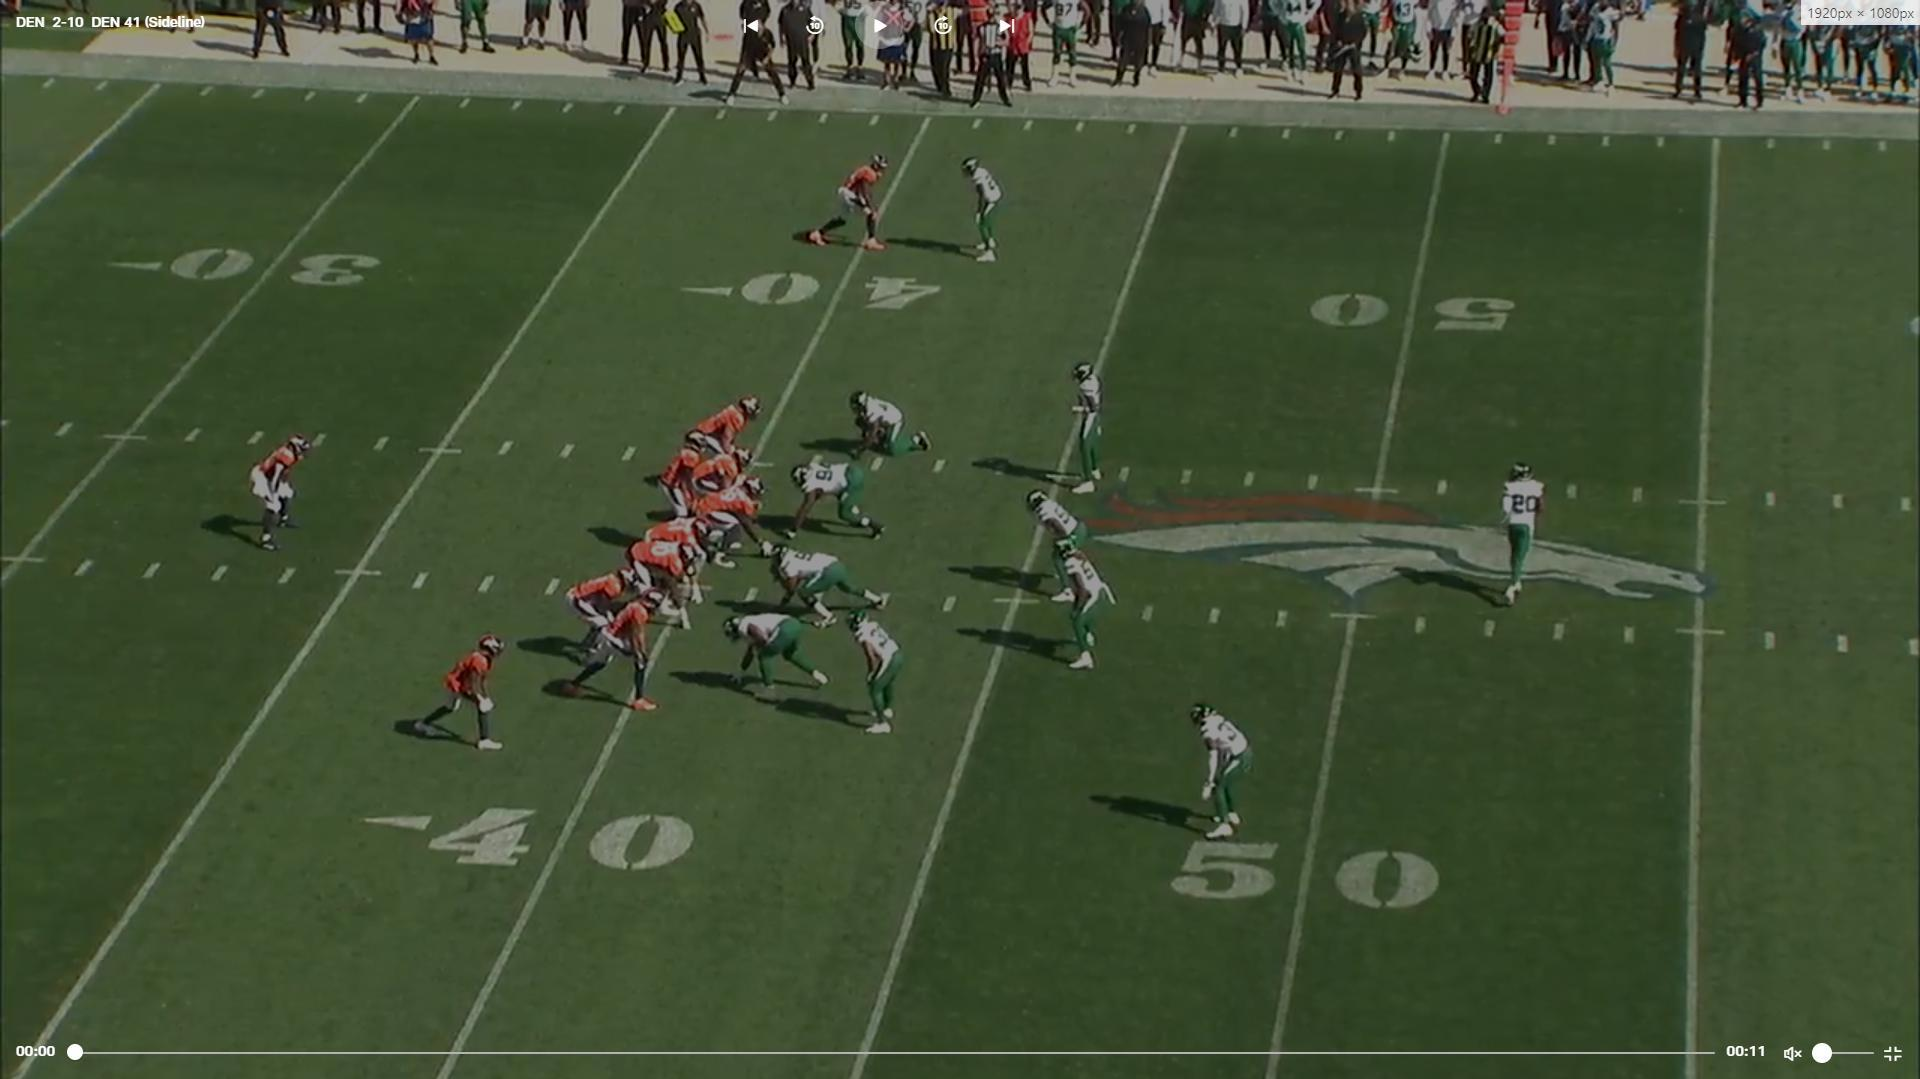defense: (767, 543, 891, 632), (1189, 702, 1258, 852), (721, 609, 831, 703), (791, 455, 887, 541), (1058, 545, 1117, 679), (845, 385, 935, 472), (845, 605, 903, 739), (1497, 456, 1547, 609), (1026, 488, 1087, 607), (1060, 352, 1109, 499), (951, 149, 1007, 268)
oline: (617, 538, 704, 634), (636, 509, 717, 605), (690, 471, 770, 569), (692, 389, 765, 455), (698, 446, 760, 496)
qb: (659, 433, 708, 529)
ref: (723, 4, 793, 112), (963, 3, 1019, 121)
skill: (411, 629, 513, 758), (566, 587, 667, 716), (804, 146, 899, 257), (252, 426, 323, 555), (562, 561, 641, 667)
